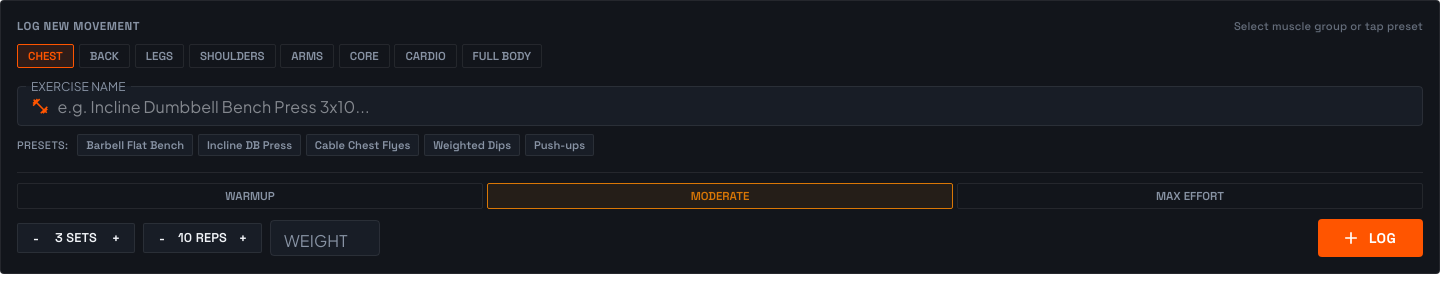
WorkoutInput Component › increments and decrements sets and reps steppers correctly
The image size is (1440, 291).
Expected: the text "3 SETS" is shown, x1=52 y1=229 x2=100 y2=247
Expected: the text "10 REPS" is shown, x1=178 y1=229 x2=227 y2=247
Click the button named "Increase sets" at (116, 238), box x1=104 y1=226 x2=128 y2=250
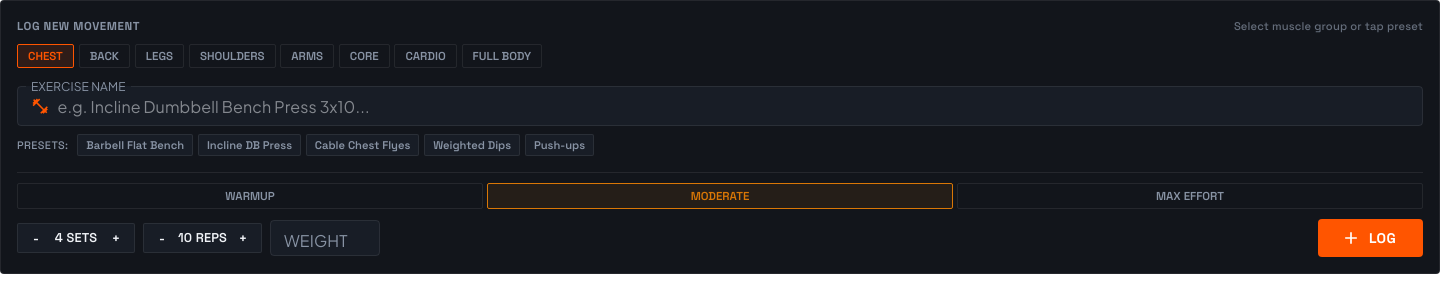
Expected: the text "4 SETS" is shown, x1=52 y1=229 x2=100 y2=247
Click the button named "Increase reps" at (243, 238), box x1=231 y1=226 x2=255 y2=250
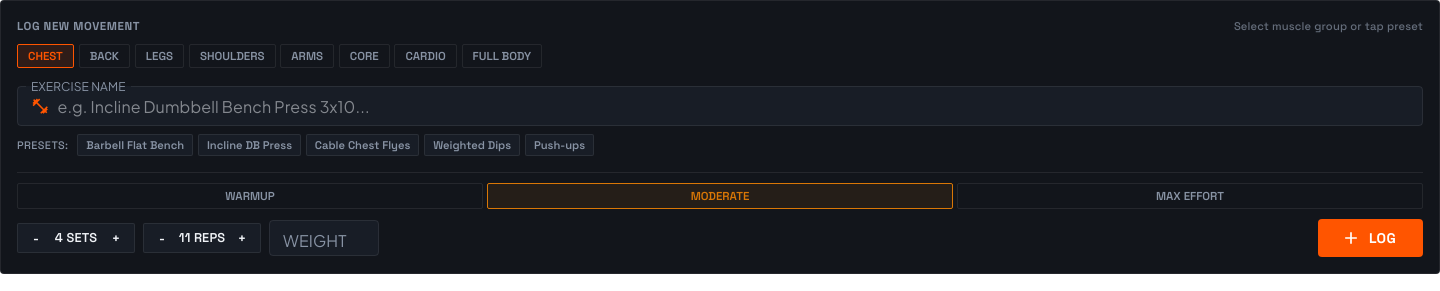
Expected: the text "11 REPS" is shown, x1=178 y1=229 x2=226 y2=247
